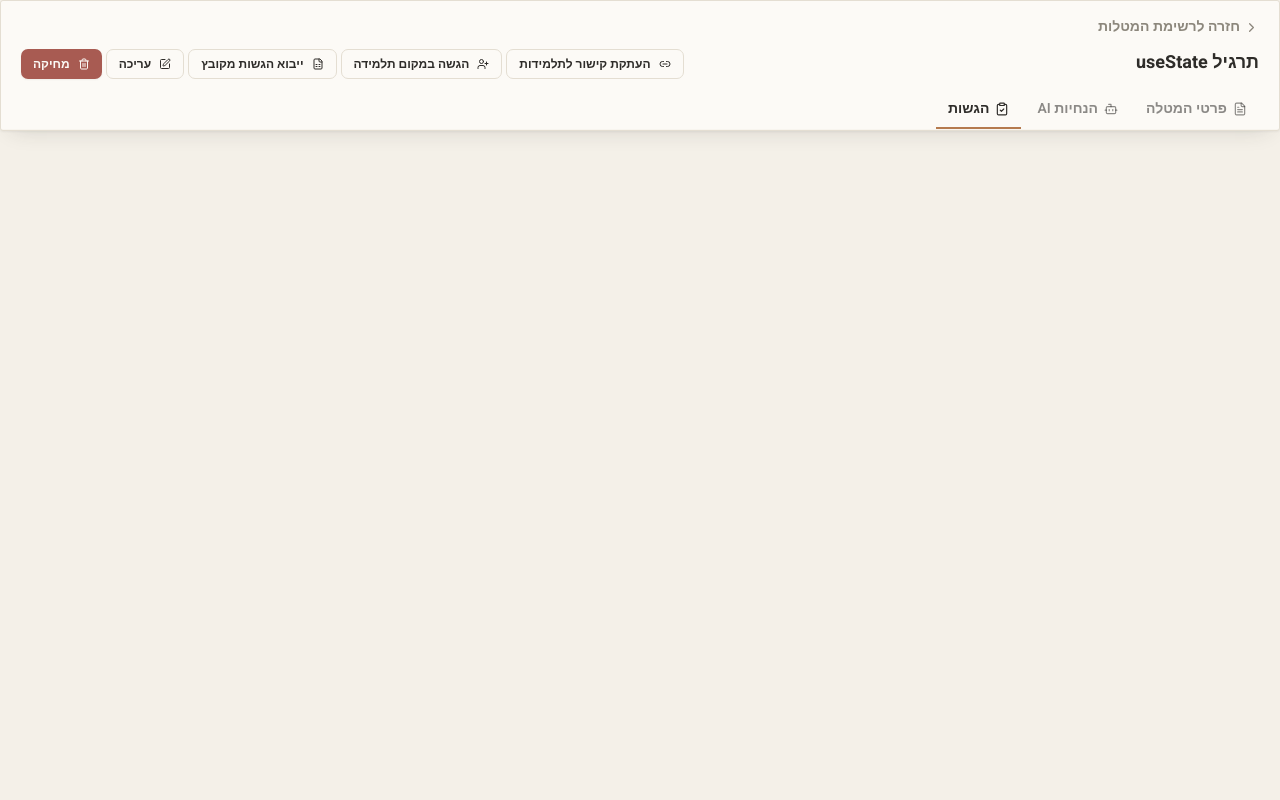
Test: AssignmentView - the link for the students › shows the link to copy by hand when the browser refuses the clipboard
Click the button "העתקת קישור לתלמידות" at (595, 64), box [506,49,684,79]
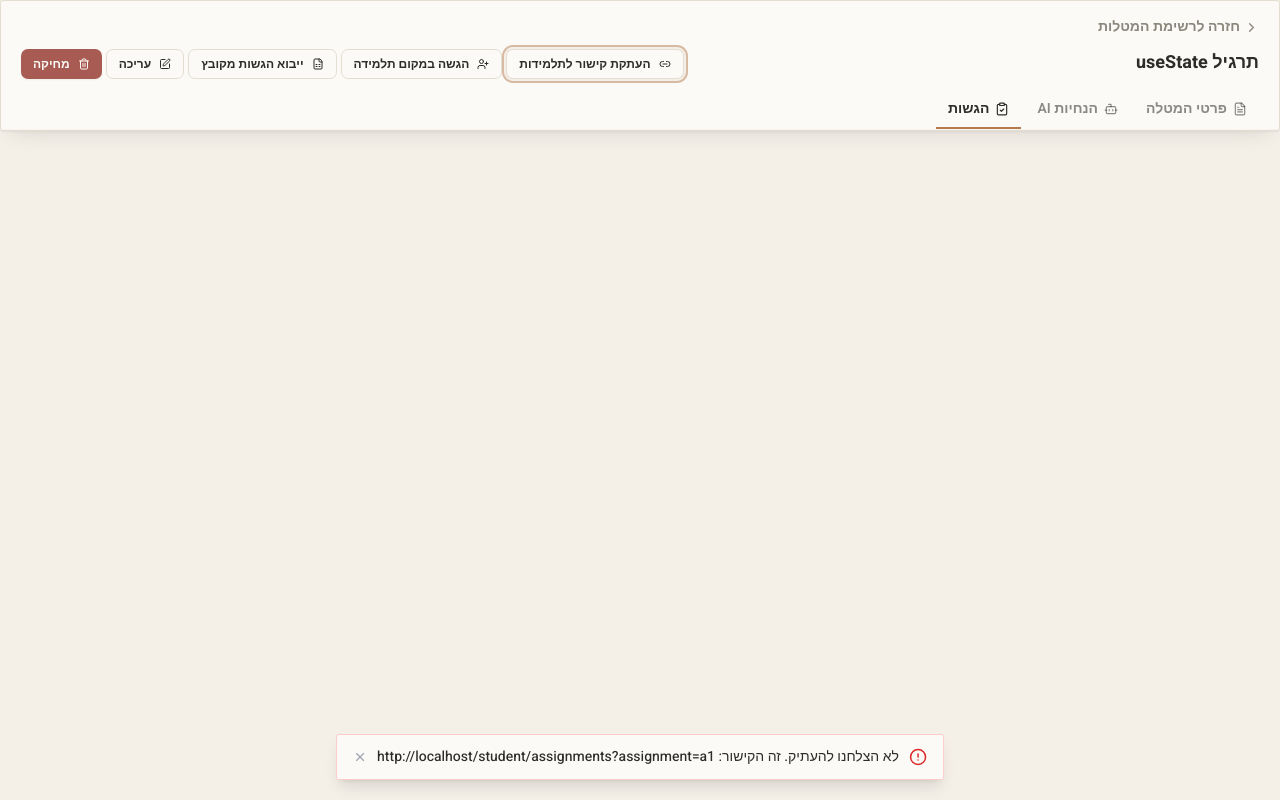
Expected: the text "student/assignments?assignment=a1" is shown, [377,746,899,767]
